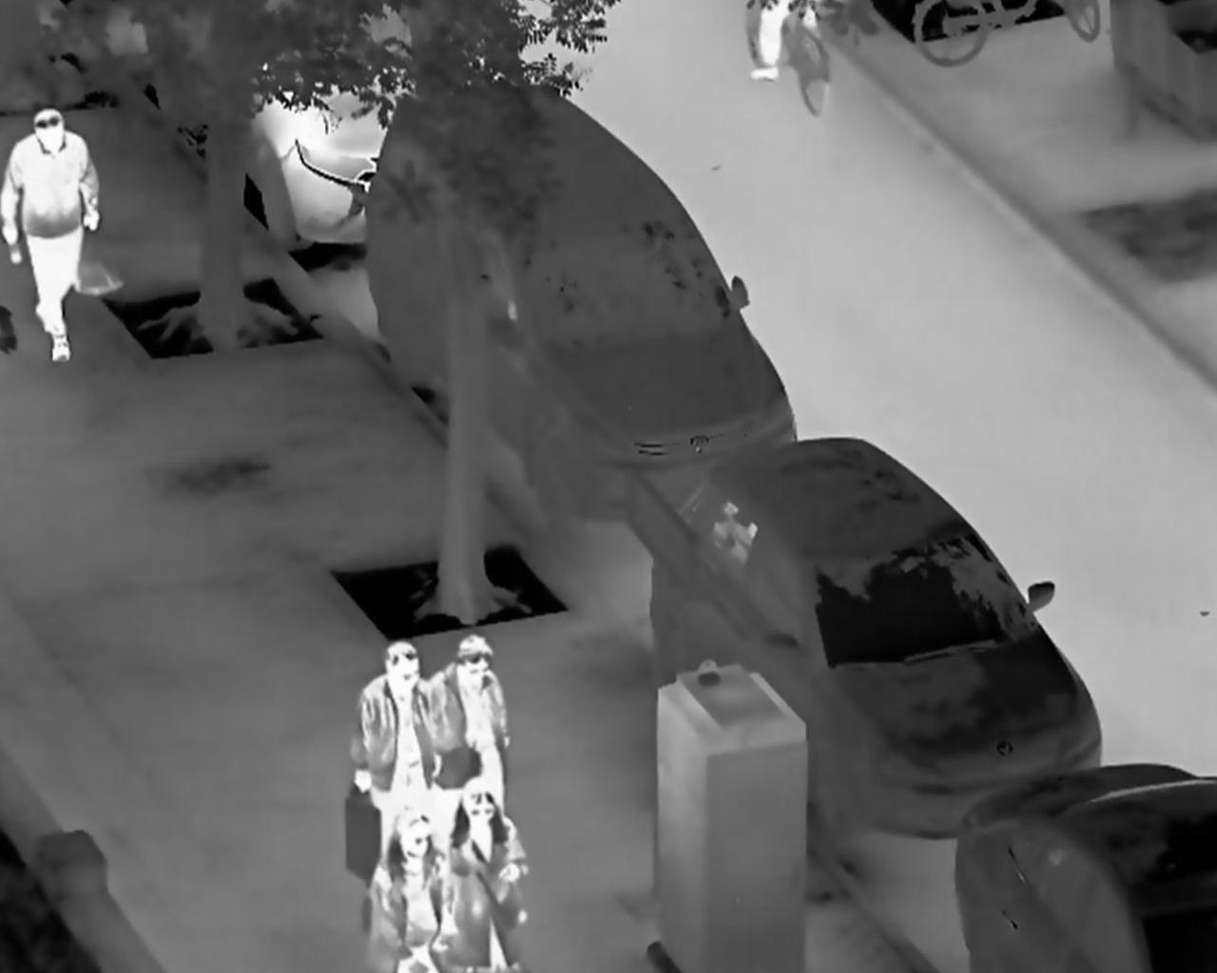person: (2, 109, 103, 366), (353, 638, 445, 870), (427, 628, 516, 825), (446, 775, 531, 973), (365, 807, 456, 973)
